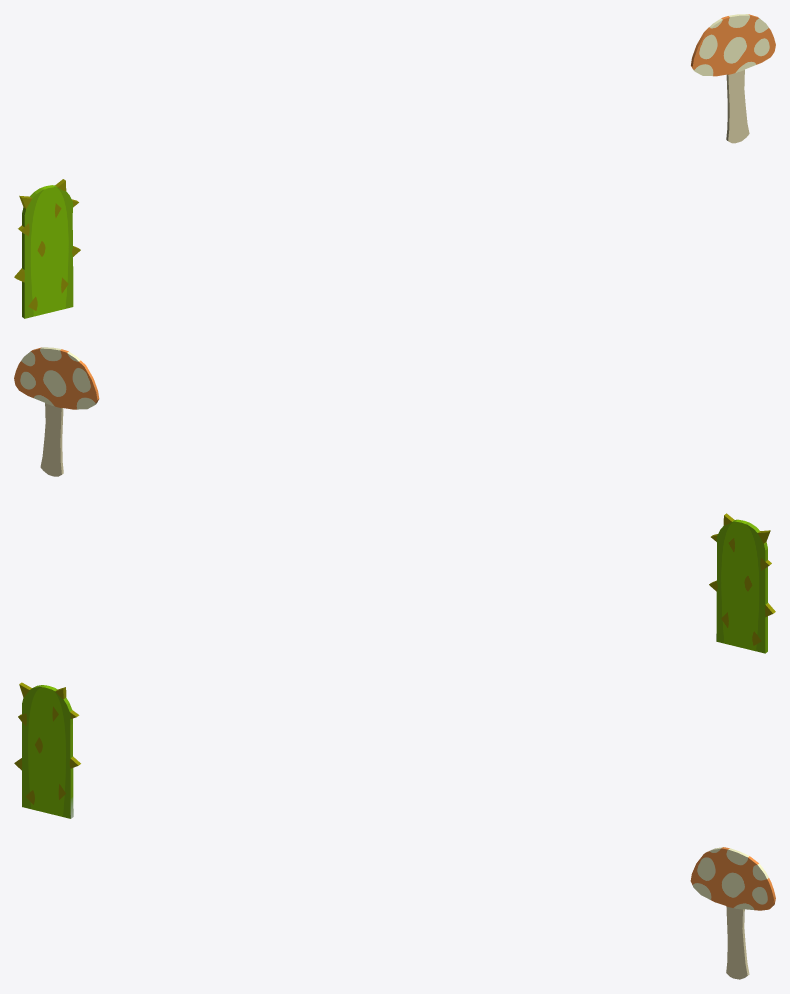
Rendered from MaskPlant_Cactus_and_Mushroom (2).fbx.
3 renders of one model, top to bottom at view 1: azimuth 30°, elevation 25°; view 2: azimuth 150°, elevation 25°; view 3: azimuth 330°, elevation 25°, orthographic.
Visible parts, largest first — view 1: Cactus, Mushroom; view 2: Cactus, Mushroom; view 3: Cactus, Mushroom.
Part boxes in pixels (<box>): Cactus: <box>14,179,80,318</box>; Mushroom: <box>691,14,775,143</box>; Cactus: <box>709,513,775,653</box>; Mushroom: <box>14,347,99,476</box>; Cactus: <box>14,682,80,818</box>; Mushroom: <box>690,847,775,979</box>.
Size of the model in its own units: 119 by 19.37 by 0.7989.
